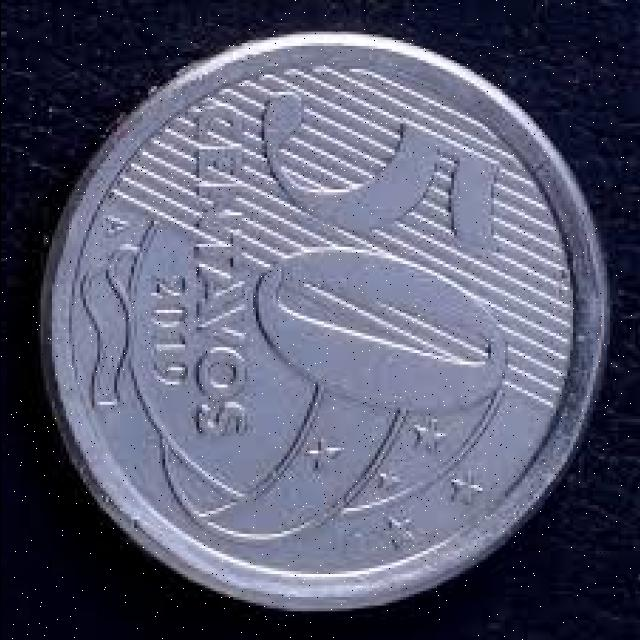50 cent: (50, 32, 614, 621)
